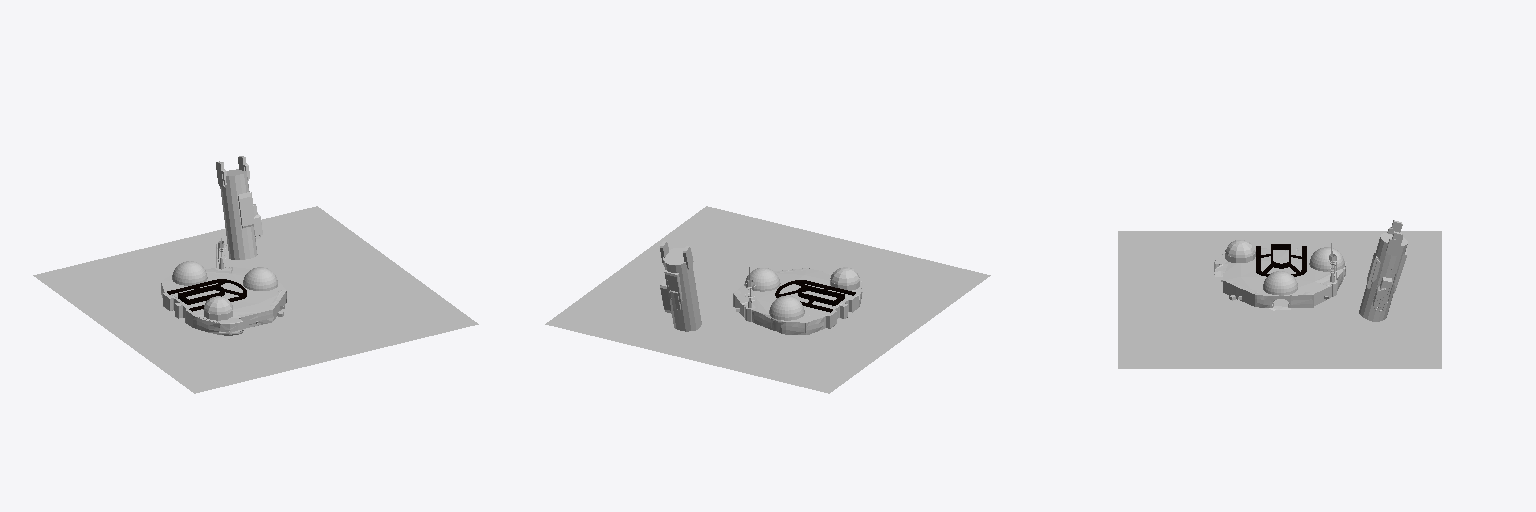
File: cantina.obj
3 renders of one model, left to right at view 1: azimuth 30°, elevation 25°; view 2: azimuth 150°, elevation 25°; view 3: azimuth 270°, elevation 25°, orthographic.
Visible parts, largest first — view 1: Plane.005, Mesh_0090_Mesh_0090Mesh, Mesh_0342_Mesh_0342Mesh, Sphere, Sphere.001; view 2: Plane.005, Mesh_0090_Mesh_0090Mesh, Mesh_0342_Mesh_0342Mesh, Sphere, Sphere.001; view 3: Plane.005, Mesh_0090_Mesh_0090Mesh, Mesh_0342_Mesh_0342Mesh, Sphere.001, Sphere.
Boxes of the visible parts, box(x1,y1,x2,y2) form: Plane.005: box(33, 206, 478, 393); Mesh_0090_Mesh_0090Mesh: box(161, 267, 286, 335); Mesh_0342_Mesh_0342Mesh: box(216, 156, 262, 259); Sphere: box(172, 261, 207, 285); Sphere.001: box(243, 267, 277, 290); Plane.005: box(545, 206, 990, 393); Mesh_0090_Mesh_0090Mesh: box(733, 268, 863, 334); Mesh_0342_Mesh_0342Mesh: box(660, 241, 701, 331); Sphere: box(769, 295, 804, 320); Sphere.001: box(745, 268, 780, 291); Plane.005: box(1118, 231, 1441, 368); Mesh_0090_Mesh_0090Mesh: box(1214, 248, 1346, 310); Mesh_0342_Mesh_0342Mesh: box(1359, 220, 1407, 321); Sphere.001: box(1263, 271, 1297, 295); Sphere: box(1309, 247, 1344, 271).
Size of the model in its own units: 27.09 by 8.41 by 26.66.